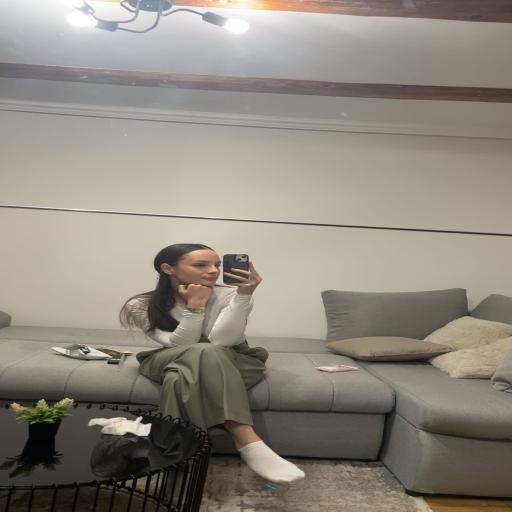marija: (180, 249, 222, 288)
